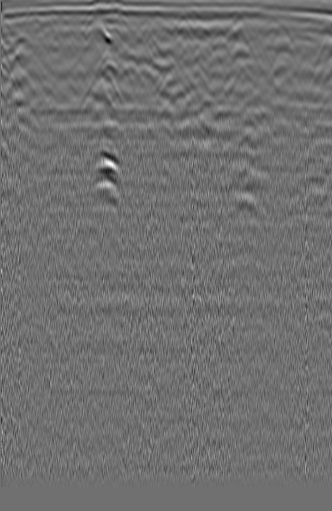가스: (88, 147, 123, 179)
상수: (6, 30, 39, 60)
오수: (294, 42, 317, 74)
우수: (140, 36, 165, 60)
